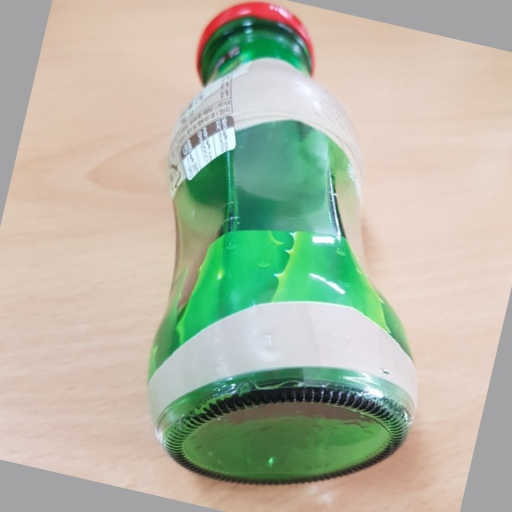Glass_4: (141, 4, 419, 487)
